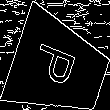P_E: (32, 42, 86, 94)
